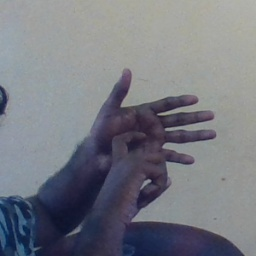R: (79, 64, 222, 212)
